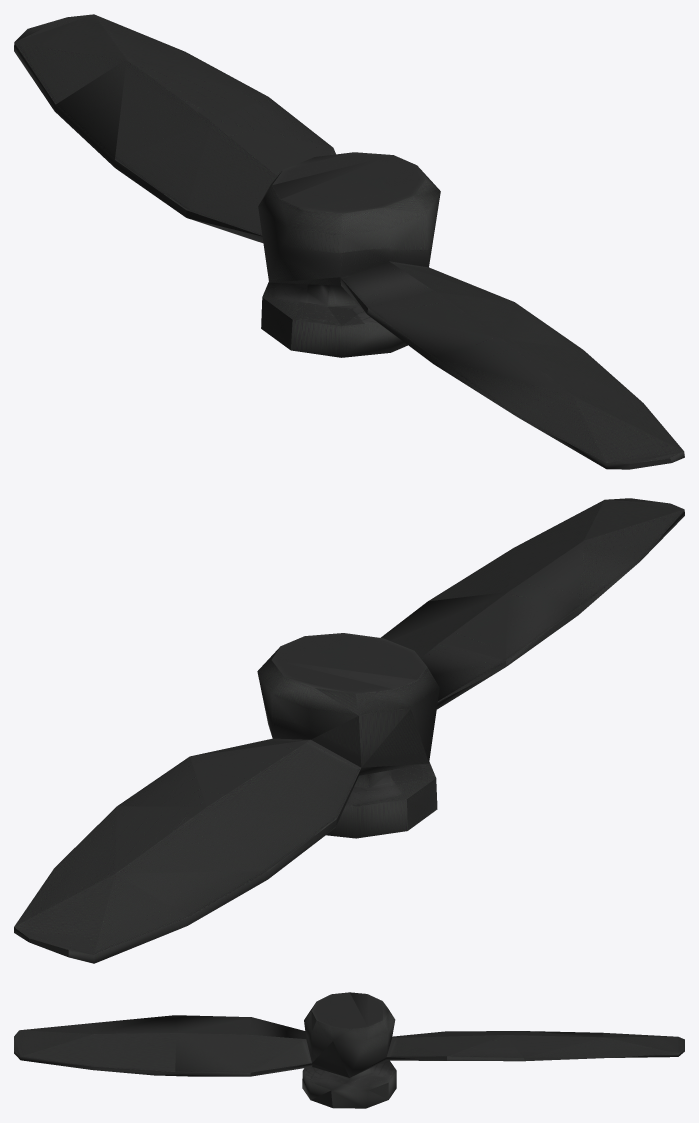
File: Propeller.fbx
The picture shows the model from 3 angles, top to bottom: view 1: azimuth 30°, elevation 25°; view 2: azimuth 150°, elevation 25°; view 3: azimuth 270°, elevation 25°; orthographic projection. The views are drawn at different scales.
Visible parts, largest first — view 1: mesh_node; view 2: mesh_node; view 3: mesh_node.
Boxes of the visible parts, left/top/right/bottom form: mesh_node: left=14, top=14, right=684, bottom=469; mesh_node: left=14, top=498, right=684, bottom=963; mesh_node: left=14, top=992, right=684, bottom=1108.
Bounding box in the file's own units: 601 × 500 × 3894.
Materials: 1 (1 with a texture image).
